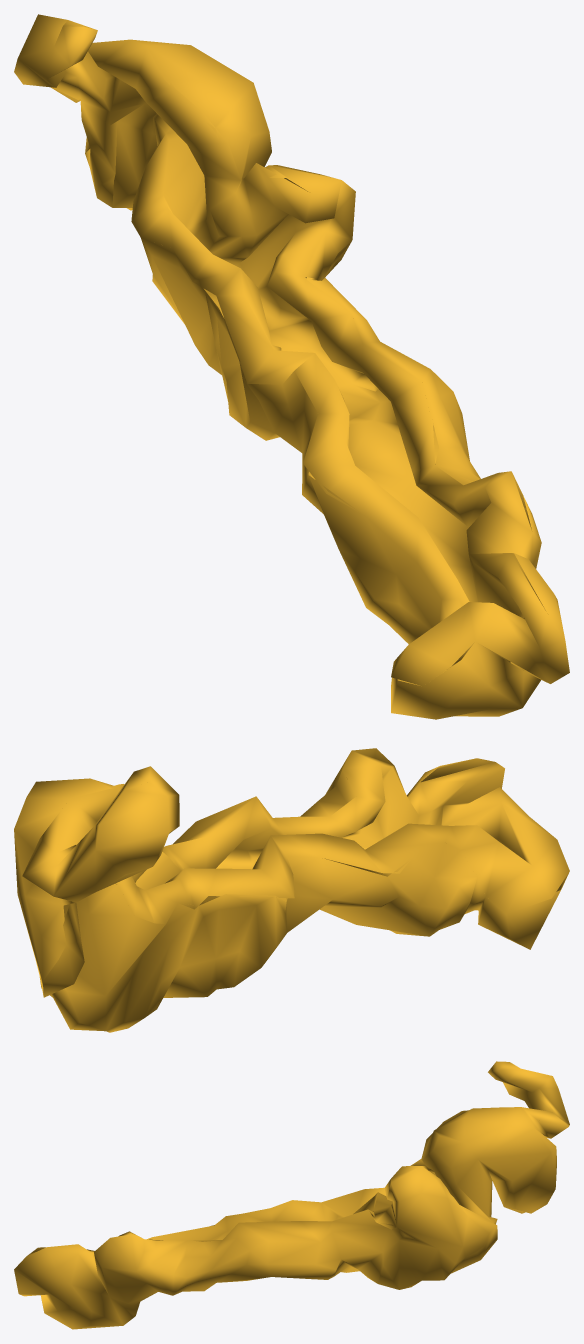
File: nervoso-inferior-temporal-gyrus-l.glb
3 views of the same model, one above another, from view 1: azimuth 30°, elevation 25°; view 2: azimuth 150°, elevation 25°; view 3: azimuth 270°, elevation 25° (orthographic). The views are drawn at different scales.
Parts seen in each view (by area): view 1: Inferior temporal gyrus.l; view 2: Inferior temporal gyrus.l; view 3: Inferior temporal gyrus.l.
Boxes of the visible parts, x1,y1,x2,y2 form: Inferior temporal gyrus.l: (14,14,569,719); Inferior temporal gyrus.l: (14,748,569,1032); Inferior temporal gyrus.l: (14,1061,569,1329).
Size of the model in its own units: 0.0256 by 0.0441 by 0.0897.
